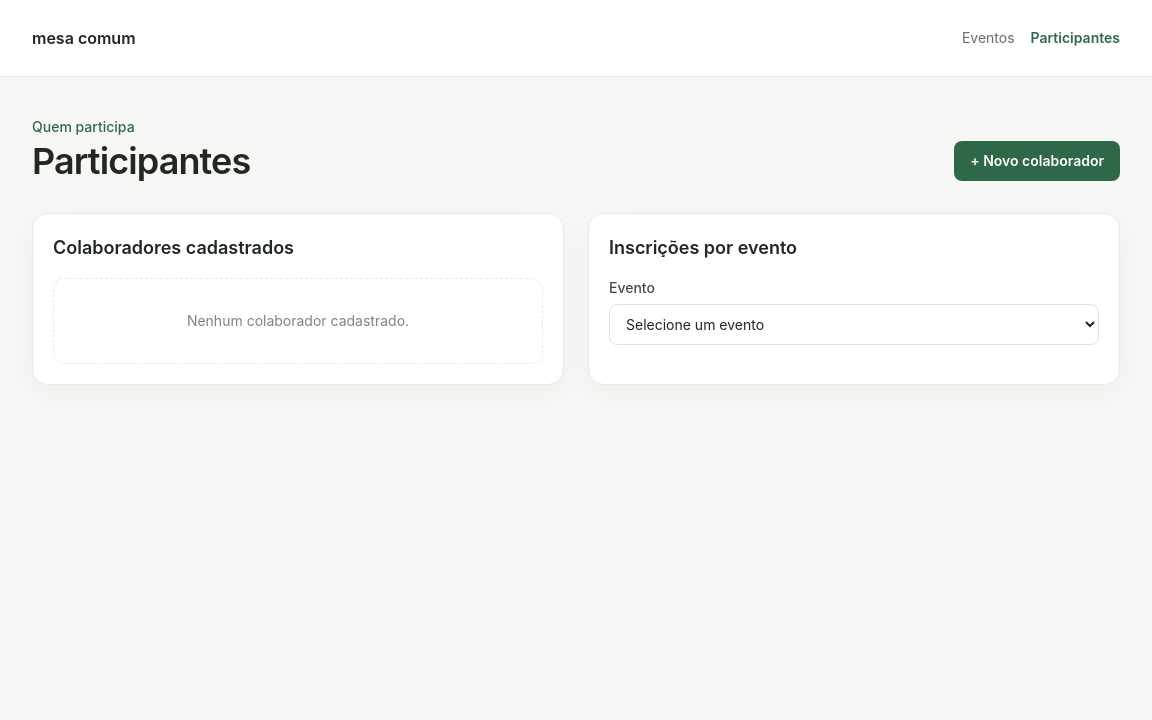
Scenario: ParticipantesPage › valida que o CPF tem 11 dígitos
Click the button "+ Novo colaborador" at (1037, 161), box [954, 141, 1120, 181]
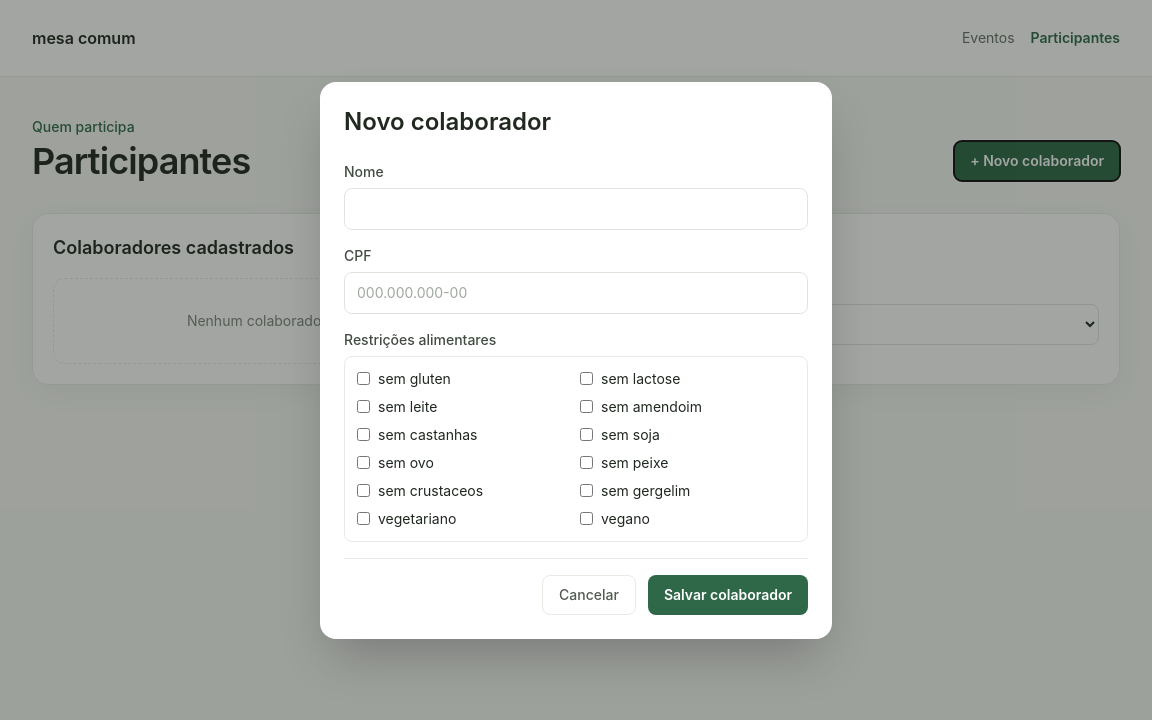
Type "João" into the field labelled "Nome" at (576, 208), box [344, 188, 808, 230]
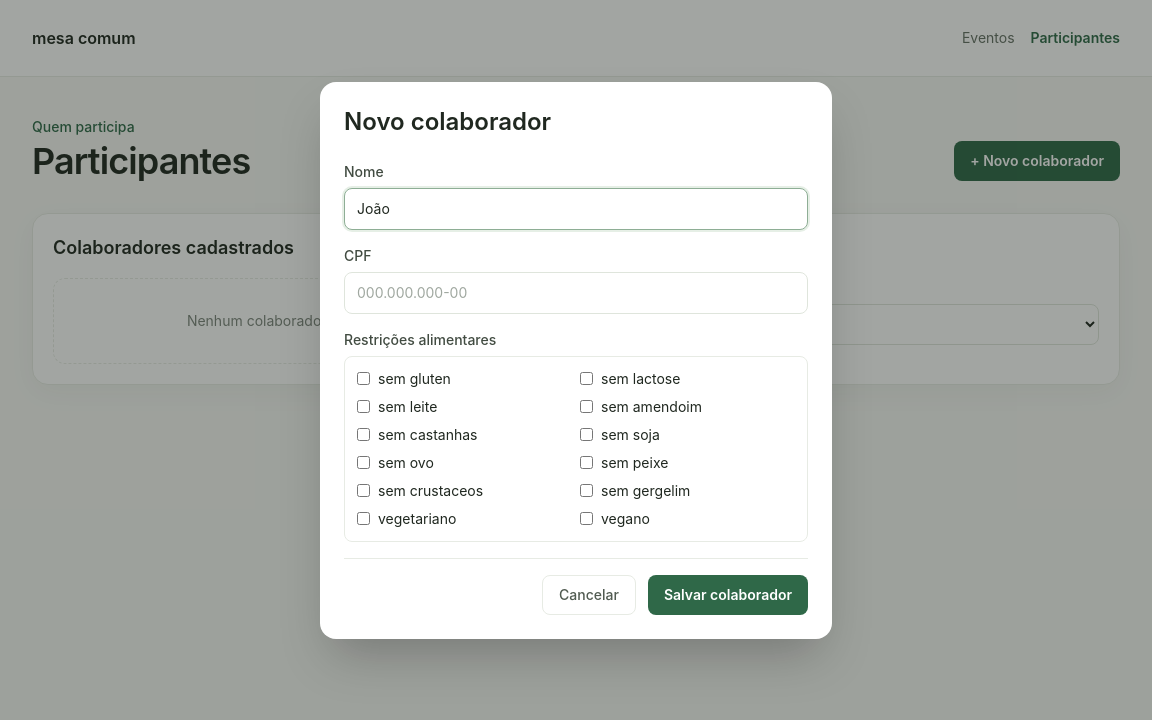
Type "123" into the field labelled "CPF" at (576, 292), box [344, 272, 808, 314]
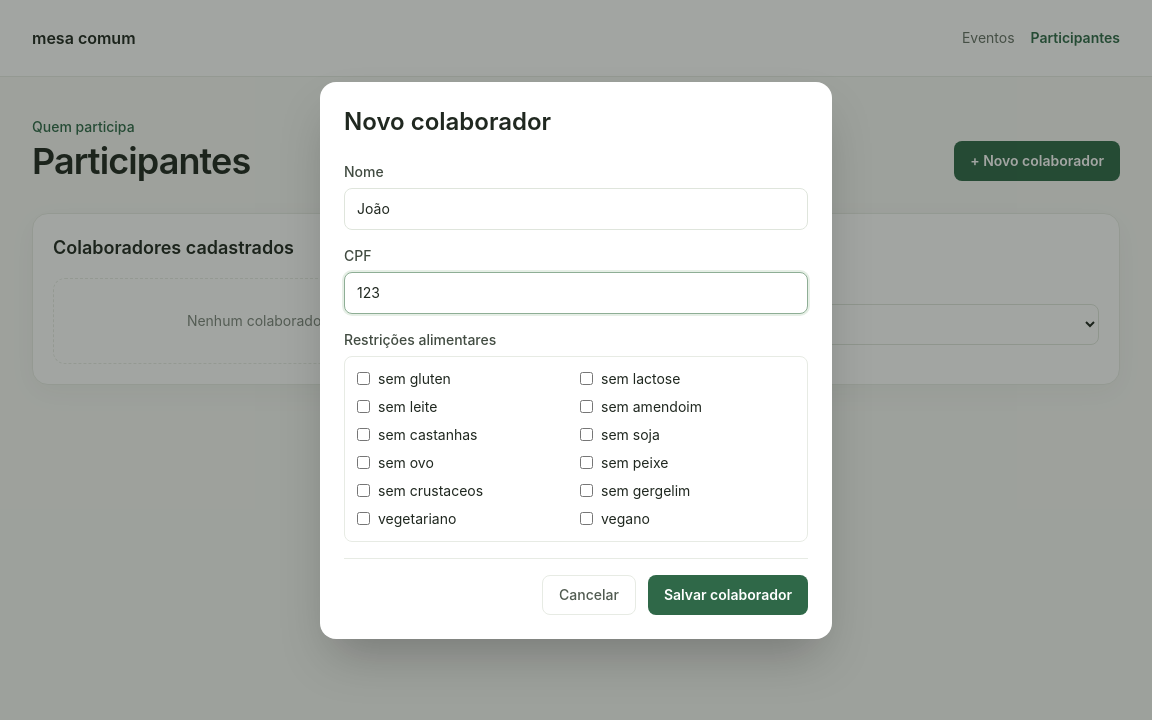
Click the button "Salvar colaborador" at (728, 594), box [648, 574, 808, 614]
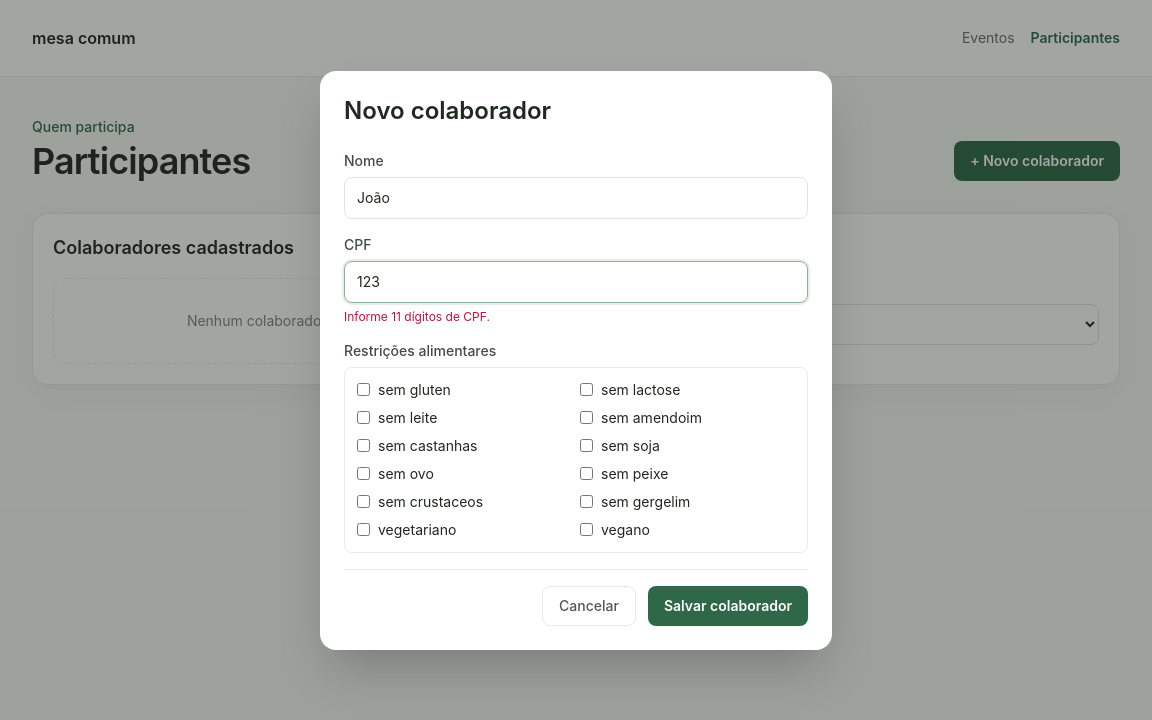
Now the text "Informe 11 dígitos de CPF." is shown, box [344, 308, 490, 324]
